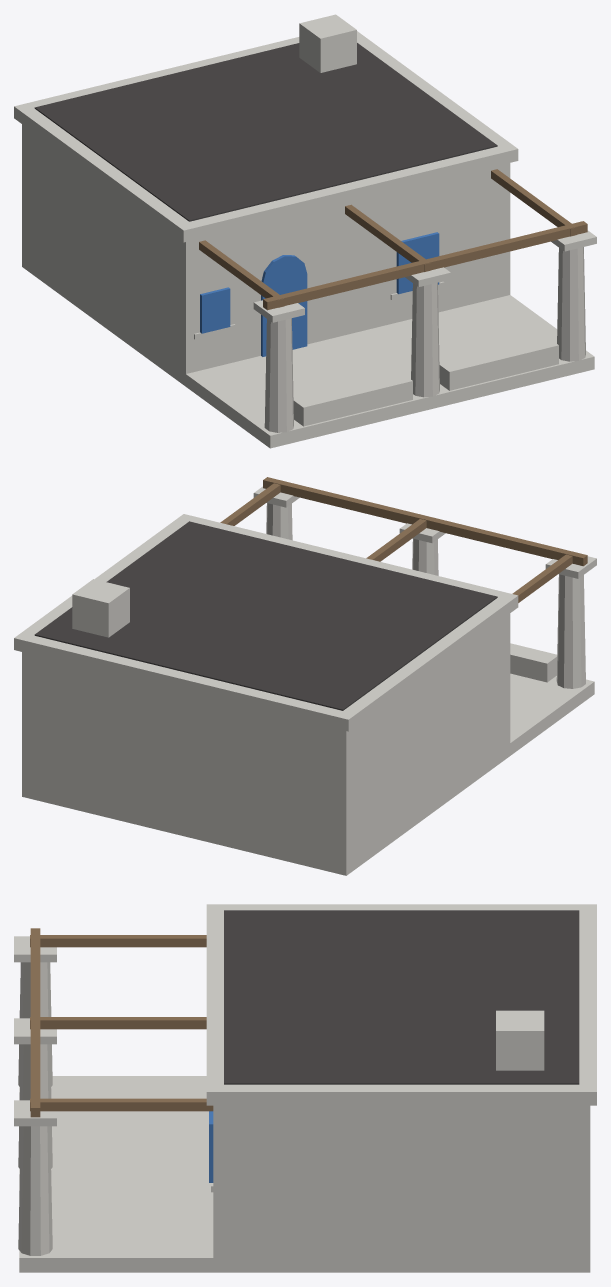
File: house_a.glb
3 views of the same model, one above another, from view 1: azimuth 30°, elevation 25°; view 2: azimuth 150°, elevation 25°; view 3: azimuth 270°, elevation 25° (orthographic). The views are drawn at different scales.
Visible parts, largest first — view 1: SG_House_A; view 2: SG_House_A; view 3: SG_House_A.
Boxes of the visible parts, x1,y1,x2,y2 form: SG_House_A: (14,14,596,448); SG_House_A: (14,477,596,875); SG_House_A: (14,904,596,1272).
Size of the model in its own units: 8.25 by 4.72 by 10.83.
